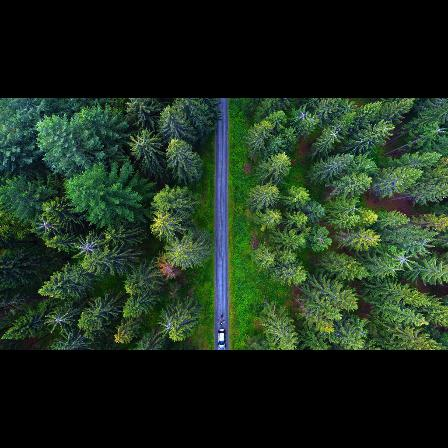Sick: (40, 304, 77, 332), (71, 234, 103, 259), (32, 212, 58, 239), (293, 104, 314, 126), (323, 122, 343, 144)
